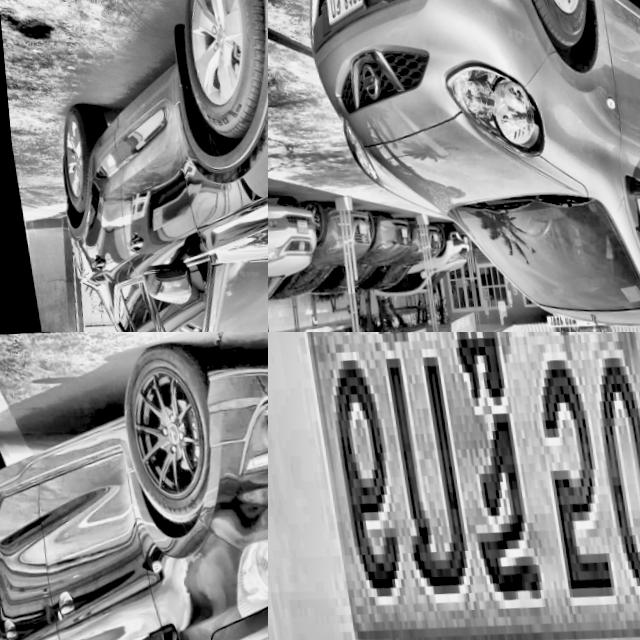license-plate: (268, 332, 640, 640), (314, 0, 366, 32), (286, 216, 303, 237), (350, 221, 360, 236), (394, 227, 399, 238), (424, 232, 430, 241), (455, 233, 460, 241)
